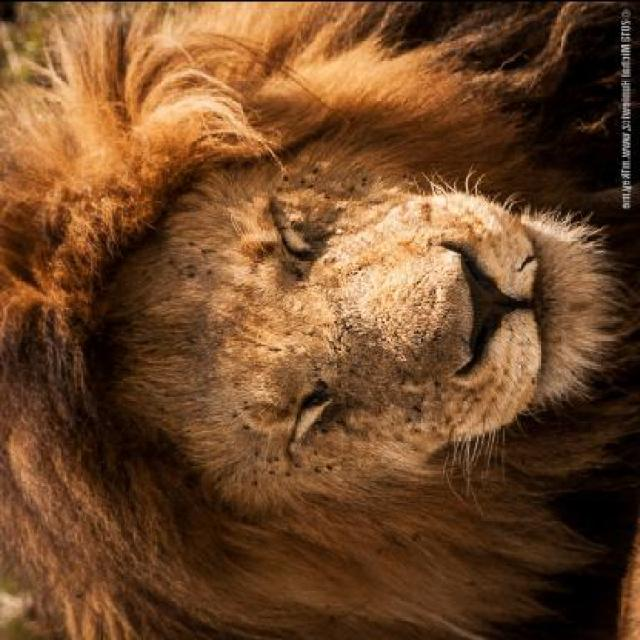Lion: (9, 14, 638, 611)
